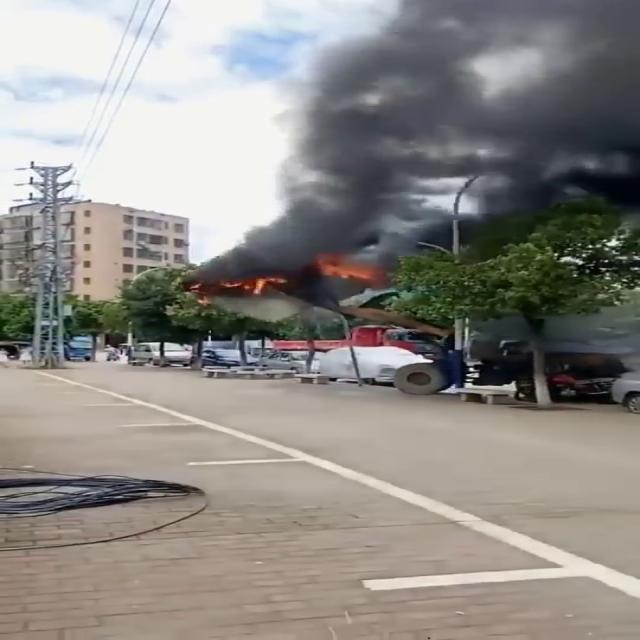Smoke: (214, 0, 639, 294)
